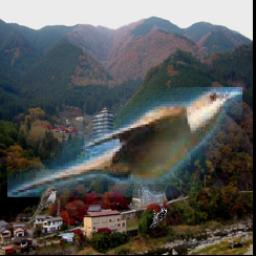Cuckoo: (7, 88, 242, 198), (28, 187, 58, 222)
Woodpecker: (150, 206, 168, 229)
